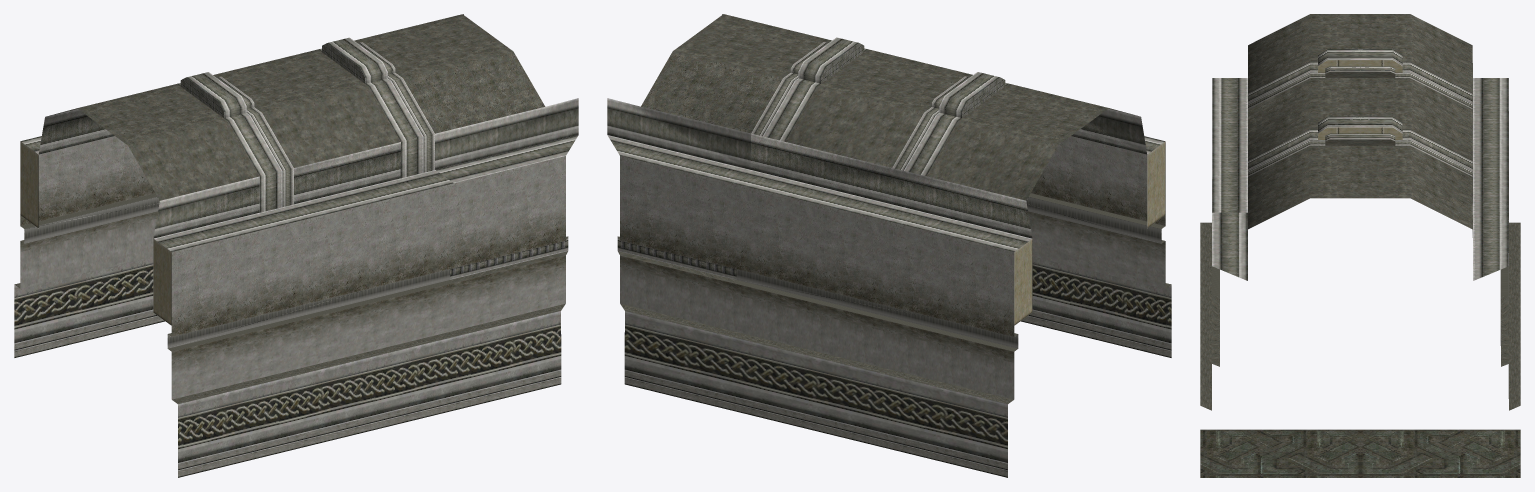
The model's file is DWARF_PALACE_EREBOR_ROOMC.fbx.
3 views of the same model, side by side, from view 1: azimuth 30°, elevation 25°; view 2: azimuth 150°, elevation 25°; view 3: azimuth 270°, elevation 25° (orthographic). The views are drawn at different scales.
Visible parts, largest first — view 1: DWARF_PALACE_EREBOR_ROOMC; view 2: DWARF_PALACE_EREBOR_ROOMC; view 3: DWARF_PALACE_EREBOR_ROOMC.
Boxes of the visible parts, box(x1,y1,x2,y2) form: DWARF_PALACE_EREBOR_ROOMC: box(14, 14, 578, 477); DWARF_PALACE_EREBOR_ROOMC: box(607, 14, 1171, 477); DWARF_PALACE_EREBOR_ROOMC: box(1200, 14, 1520, 477).
Size of the model in its own units: 120583 by 82013 by 80403.
9 materials, 9 textured.
